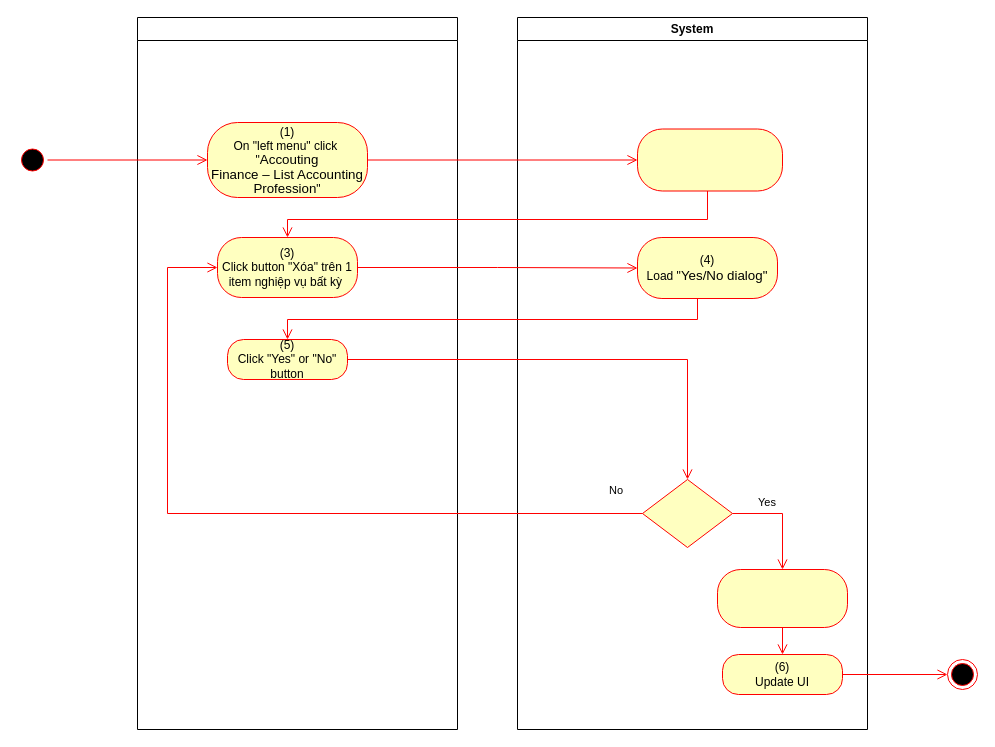
The diagram is 995 pixels wide and 747 high, and some of its shapes have lost their labels. Each missing label, with the box of its shape:
(2) Load " List Accounting Profession " screen: (636, 128, 782, 191)
(5.1) Delete Accounting Profession to DB: (716, 568, 848, 628)
User: (136, 16, 458, 730)
